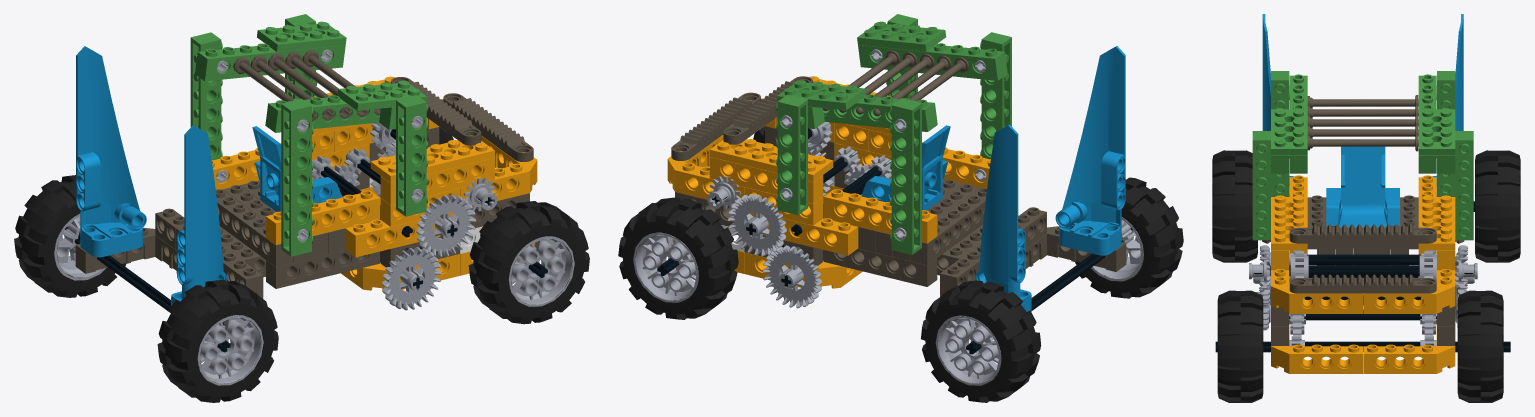
File: car.dae
3 views of the same model, side by side, from view 1: azimuth 30°, elevation 25°; view 2: azimuth 150°, elevation 25°; view 3: azimuth 270°, elevation 25° (orthographic). The views are drawn at different scales.
Visible parts, largest first — view 1: Inner-Node-car_dot_io-95, Inner-Node-car_dot_io-19, Inner-Node-car_dot_io-84, Inner-Node-car_dot_io-94, Inner-Node-car_dot_io-85, Inner-Node-car_dot_io-71, Inner-Node-car_dot_io-73, Inner-Node-car_dot_io-70, Inner-Node-car_dot_io-52, Inner-Node-car_dot_io-7, Inner-Node-car_dot_io-11, Inner-Node-car_dot_io-82 (+34 smaller); view 2: Inner-Node-car_dot_io-94, Inner-Node-car_dot_io-20, Inner-Node-car_dot_io-85, Inner-Node-car_dot_io-95, Inner-Node-car_dot_io-84, Inner-Node-car_dot_io-70, Inner-Node-car_dot_io-72, Inner-Node-car_dot_io-51, Inner-Node-car_dot_io-6, Inner-Node-car_dot_io-71, Inner-Node-car_dot_io-10, Inner-Node-car_dot_io-78 (+33 smaller); view 3: Inner-Node-car_dot_io-19, Inner-Node-car_dot_io-20, Inner-Node-car_dot_io-94, Inner-Node-car_dot_io-5, Inner-Node-car_dot_io-95, Inner-Node-car_dot_io-104, Inner-Node-car_dot_io-101, Inner-Node-car_dot_io-3, Inner-Node-car_dot_io-2, Inner-Node-car_dot_io-48, Inner-Node-car_dot_io-47, Inner-Node-car_dot_io-72 (+40 smaller).
Boxes of the visible parts, x1=… form: Inner-Node-car_dot_io-95: x1=157, y1=279, x2=278, y2=402; Inner-Node-car_dot_io-19: x1=468, y1=201, x2=589, y2=324; Inner-Node-car_dot_io-84: x1=76, y1=46, x2=146, y2=257; Inner-Node-car_dot_io-94: x1=14, y1=175, x2=126, y2=297; Inner-Node-car_dot_io-85: x1=171, y1=125, x2=227, y2=305; Inner-Node-car_dot_io-71: x1=281, y1=98, x2=313, y2=256; Inner-Node-car_dot_io-73: x1=396, y1=95, x2=427, y2=216; Inner-Node-car_dot_io-70: x1=190, y1=32, x2=222, y2=160; Inner-Node-car_dot_io-52: x1=266, y1=190, x2=380, y2=244; Inner-Node-car_dot_io-7: x1=382, y1=247, x2=441, y2=310; Inner-Node-car_dot_io-11: x1=416, y1=194, x2=476, y2=257; Inner-Node-car_dot_io-82: x1=195, y1=43, x2=345, y2=81; Inner-Node-car_dot_io-94: x1=921, y1=280, x2=1041, y2=402; Inner-Node-car_dot_io-20: x1=618, y1=197, x2=738, y2=319; Inner-Node-car_dot_io-85: x1=1055, y1=46, x2=1125, y2=255; Inner-Node-car_dot_io-95: x1=1075, y1=177, x2=1183, y2=298; Inner-Node-car_dot_io-84: x1=975, y1=124, x2=1031, y2=311; Inner-Node-car_dot_io-70: x1=890, y1=98, x2=921, y2=254; Inner-Node-car_dot_io-72: x1=776, y1=94, x2=807, y2=215; Inner-Node-car_dot_io-51: x1=823, y1=189, x2=937, y2=243; Inner-Node-car_dot_io-6: x1=762, y1=245, x2=821, y2=308; Inner-Node-car_dot_io-71: x1=980, y1=32, x2=1011, y2=159; Inner-Node-car_dot_io-10: x1=727, y1=194, x2=786, y2=256; Inner-Node-car_dot_io-78: x1=858, y1=43, x2=1007, y2=80; Inner-Node-car_dot_io-19: x1=1217, y1=290, x2=1263, y2=402; Inner-Node-car_dot_io-20: x1=1457, y1=290, x2=1503, y2=402; Inner-Node-car_dot_io-94: x1=1475, y1=150, x2=1520, y2=262; Inner-Node-car_dot_io-5: x1=1326, y1=146, x2=1399, y2=227; Inner-Node-car_dot_io-95: x1=1212, y1=150, x2=1257, y2=262; Inner-Node-car_dot_io-104: x1=1289, y1=224, x2=1436, y2=243; Inner-Node-car_dot_io-101: x1=1289, y1=274, x2=1436, y2=293; Inner-Node-car_dot_io-3: x1=1363, y1=324, x2=1455, y2=373; Inner-Node-car_dot_io-2: x1=1271, y1=344, x2=1362, y2=373; Inner-Node-car_dot_io-48: x1=1363, y1=268, x2=1455, y2=313; Inner-Node-car_dot_io-47: x1=1271, y1=269, x2=1362, y2=313; Inner-Node-car_dot_io-72: x1=1455, y1=131, x2=1473, y2=240.
Bounding box in the file's own units: 482 × 287 × 335.
